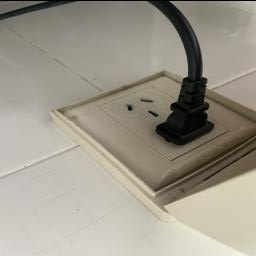outlet: (33, 74, 256, 224)
